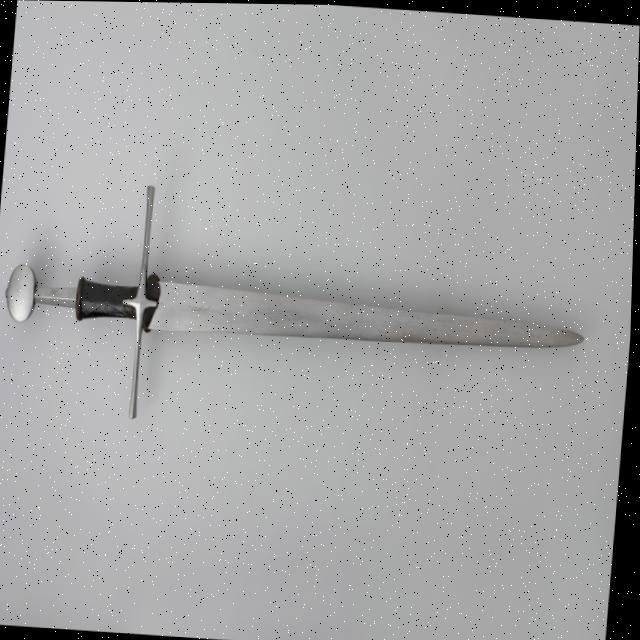knife: (0, 165, 598, 457)
